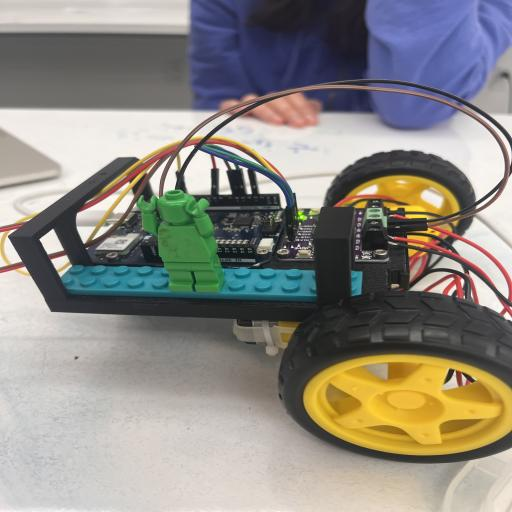Lego-Minifig: (137, 190, 225, 292)
